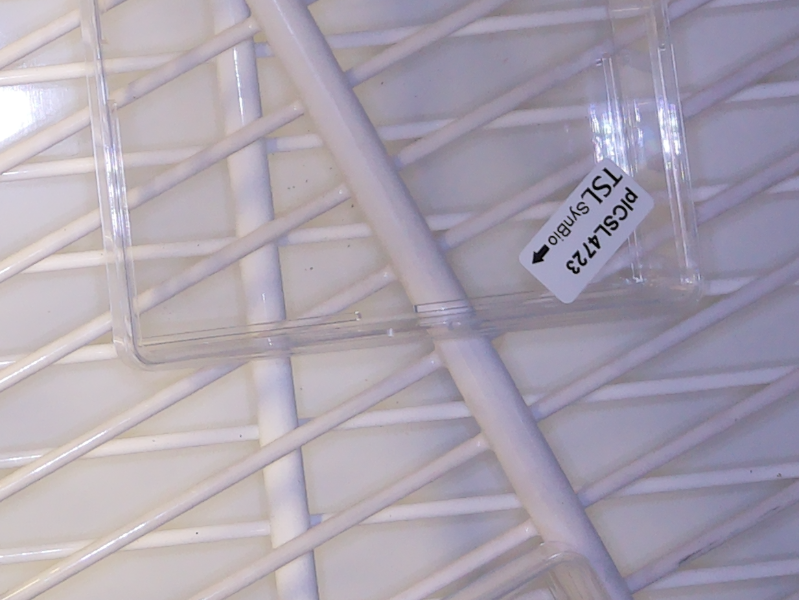plate: (78, 1, 708, 375), (450, 538, 611, 600)
